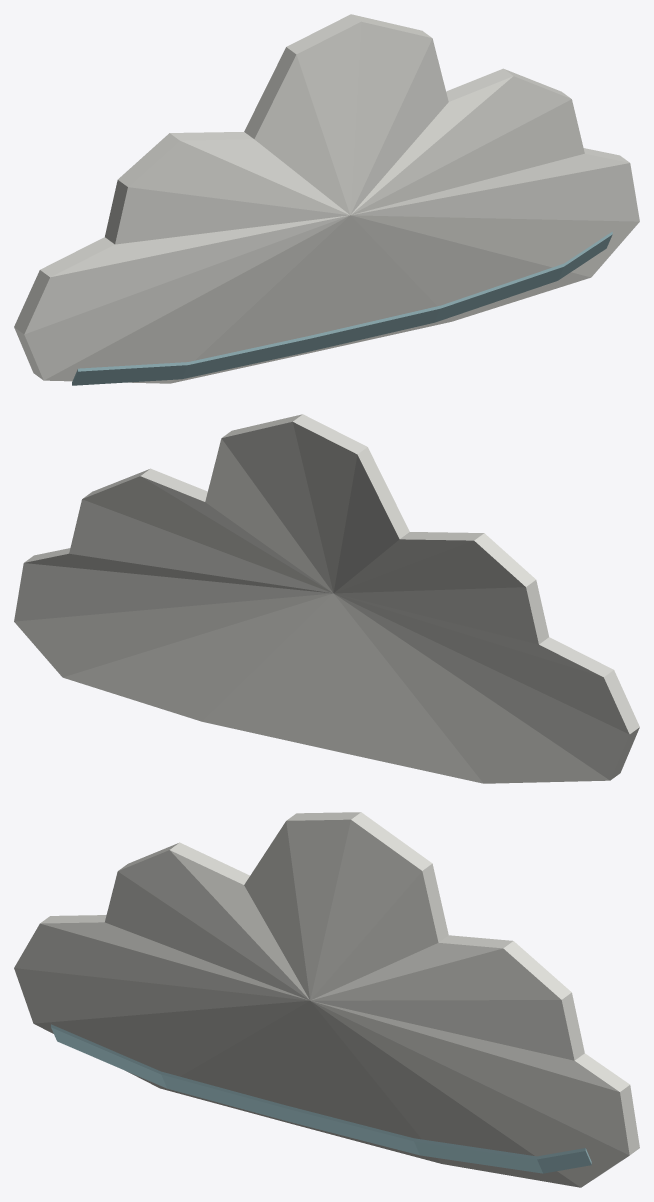
3 views of the same model, one above another, from view 1: azimuth 30°, elevation 25°; view 2: azimuth 150°, elevation 25°; view 3: azimuth 330°, elevation 25° (orthographic).
Parts seen in each view (by area): view 1: 纸云_1.001; view 2: 纸云_1.001; view 3: 纸云_1.001.
Boxes of the visible parts, <box> form: 纸云_1.001: <box>14,14,639,385</box>; 纸云_1.001: <box>14,414,639,783</box>; 纸云_1.001: <box>14,812,639,1187</box>.
Size of the model in its own units: 1.27 by 0.6365 by 0.0905.
